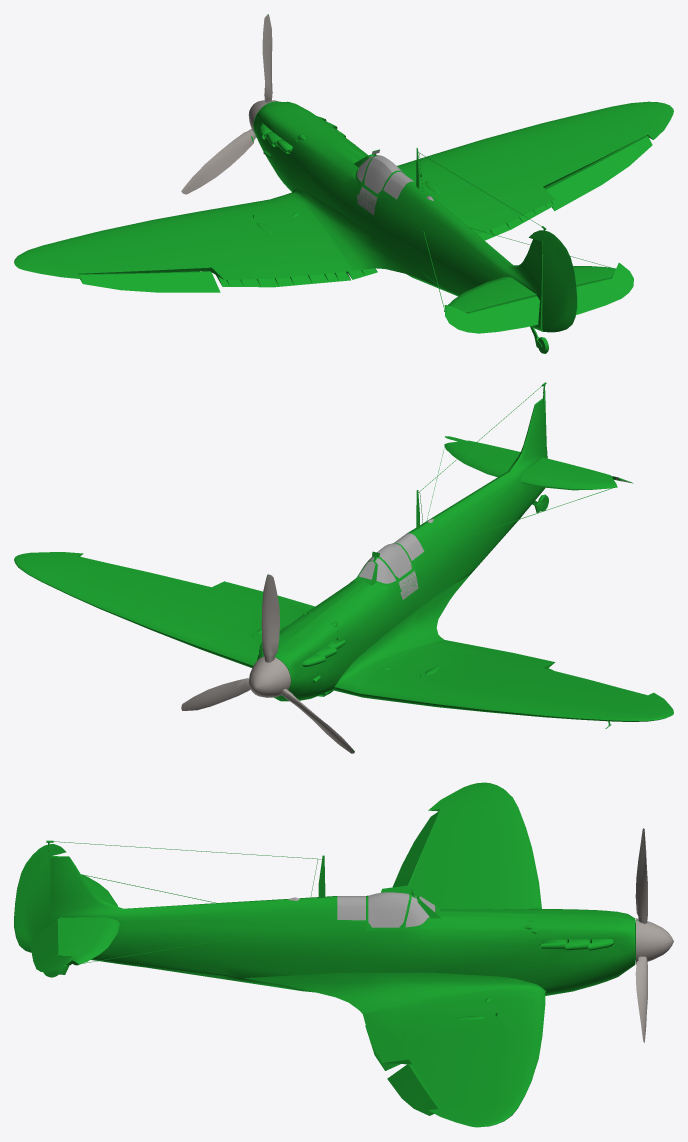
File: spitfire.obj
The picture shows the model from 3 angles, top to bottom: view 1: azimuth 30°, elevation 25°; view 2: azimuth 150°, elevation 25°; view 3: azimuth 270°, elevation 25°; orthographic projection. The views are drawn at different scales.
Visible parts, largest first — view 1: left_wing_1, right_wing_1, body_front, rear, rear.001, glass_1; view 2: body_front, left_wing_1, right_wing_1, rear, rear.001, glass_1; view 3: body_front, right_wing_1, rear, left_wing_1, rear.001, glass_1.
Part boxes in pixels (<box>): left_wing_1: <box>14,197,377,292</box>; right_wing_1: <box>397,101,673,240</box>; body_front: <box>253,101,468,293</box>; rear: <box>251,14,633,353</box>; rear.001: <box>181,14,355,194</box>; glass_1: <box>357,155,433,200</box>; body_front: <box>257,490,480,701</box>; left_wing_1: <box>355,640,673,728</box>; right_wing_1: <box>14,552,315,667</box>; rear: <box>267,382,633,752</box>; rear.001: <box>181,477,628,753</box>; glass_1: <box>358,519,433,583</box>; body_front: <box>222,855,635,1014</box>; right_wing_1: <box>363,991,545,1127</box>; rear: <box>14,829,644,978</box>; left_wing_1: <box>381,782,541,909</box>; rear.001: <box>635,828,673,1042</box>; glass_1: <box>288,892,435,927</box>.
Size of the model in its own units: 11.67 by 2.84 by 9.45.
